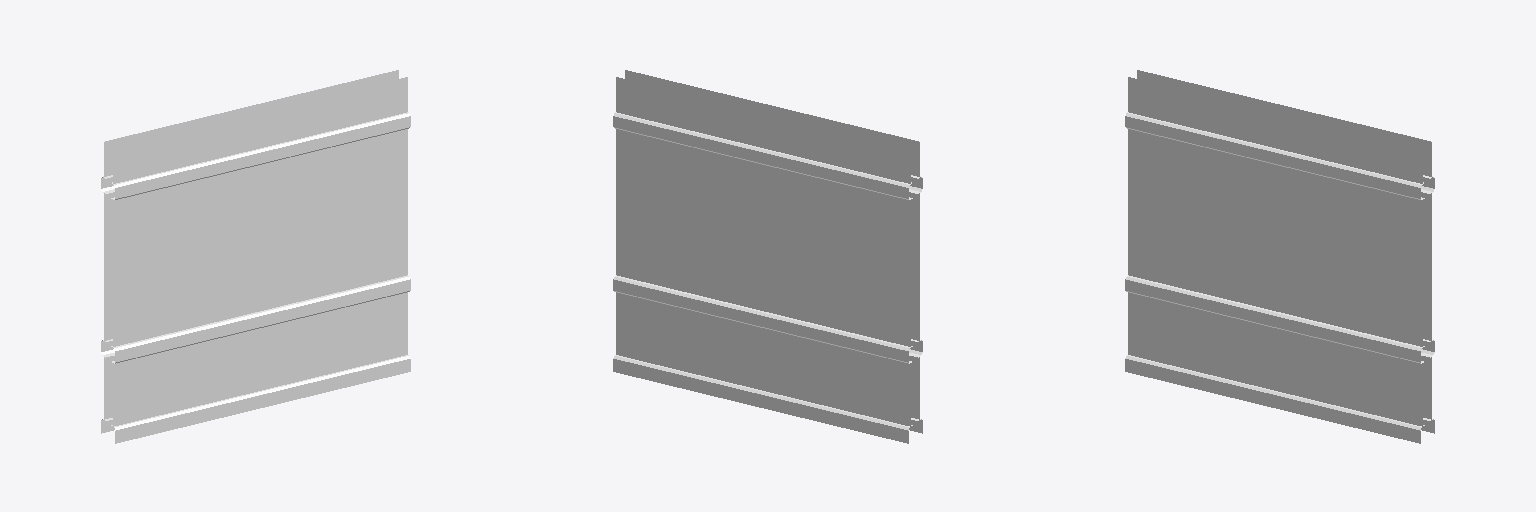
File: Prefab_07.obj
3 views of the same model, side by side, from view 1: azimuth 30°, elevation 25°; view 2: azimuth 150°, elevation 25°; view 3: azimuth 330°, elevation 25° (orthographic).
Visible parts, largest first — view 1: Object004; view 2: Object004; view 3: Object004.
Boxes of the visible parts, x1=… form: Object004: x1=101, y1=70, x2=410, y2=443; Object004: x1=613, y1=70, x2=922, y2=443; Object004: x1=1125, y1=70, x2=1434, y2=443.
Size of the model in its own units: 400 by 380 by 32.86.